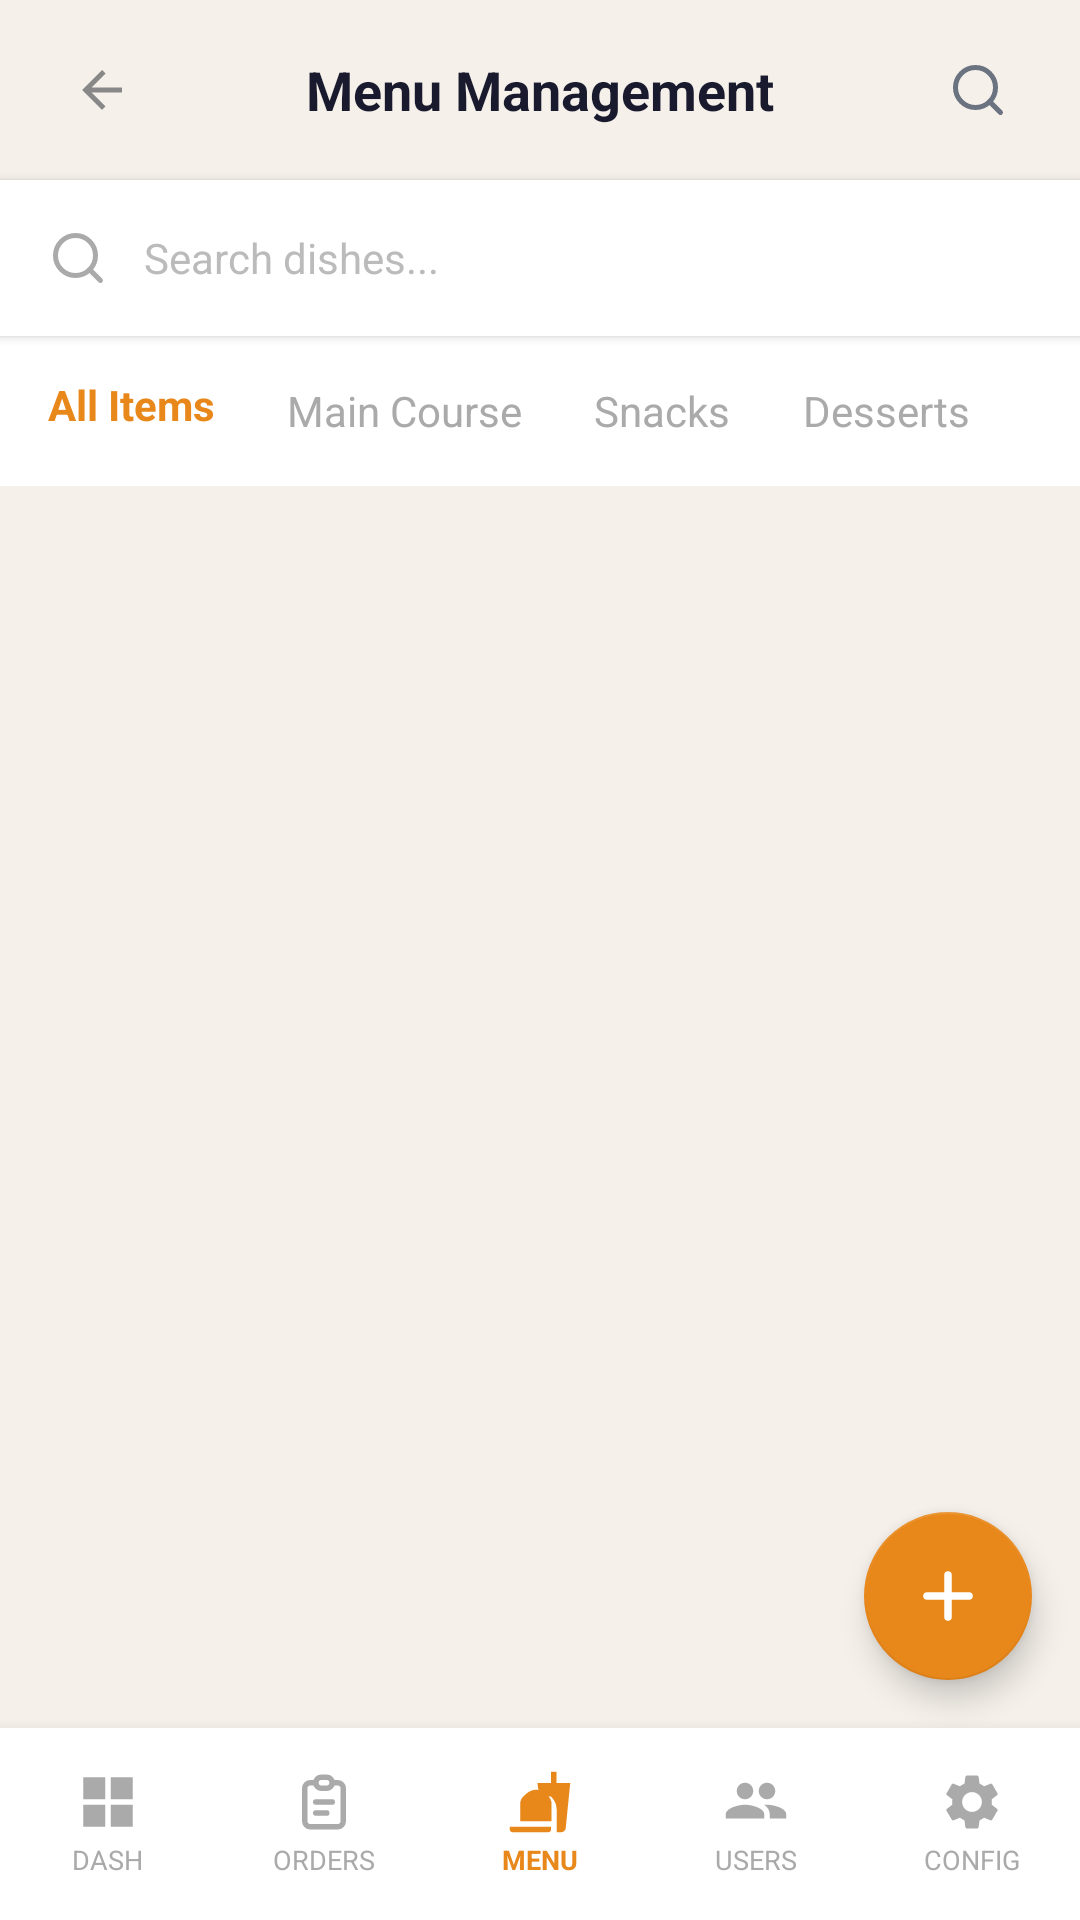

Named icons in this screenshot (1080 x 1920) and their bounding boxes, [x1, y1, x2, y2]:
Add dish: [864, 1512, 1032, 1680]
Back: [82, 70, 122, 110]
